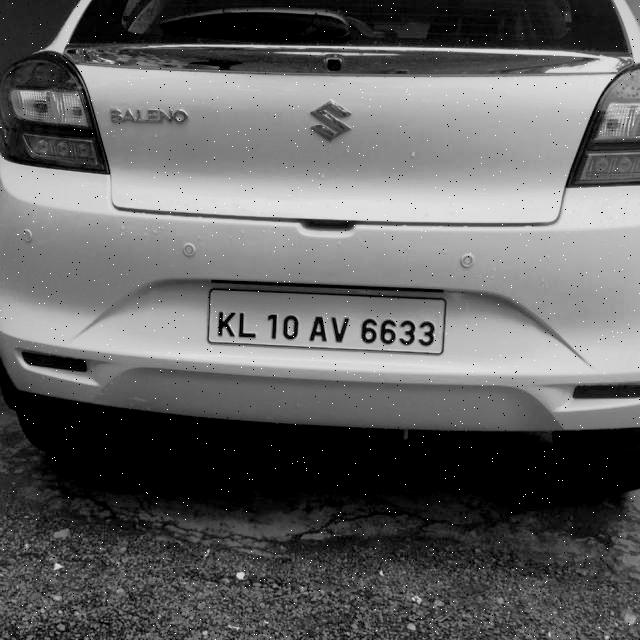Car: (0, 1, 640, 494)
